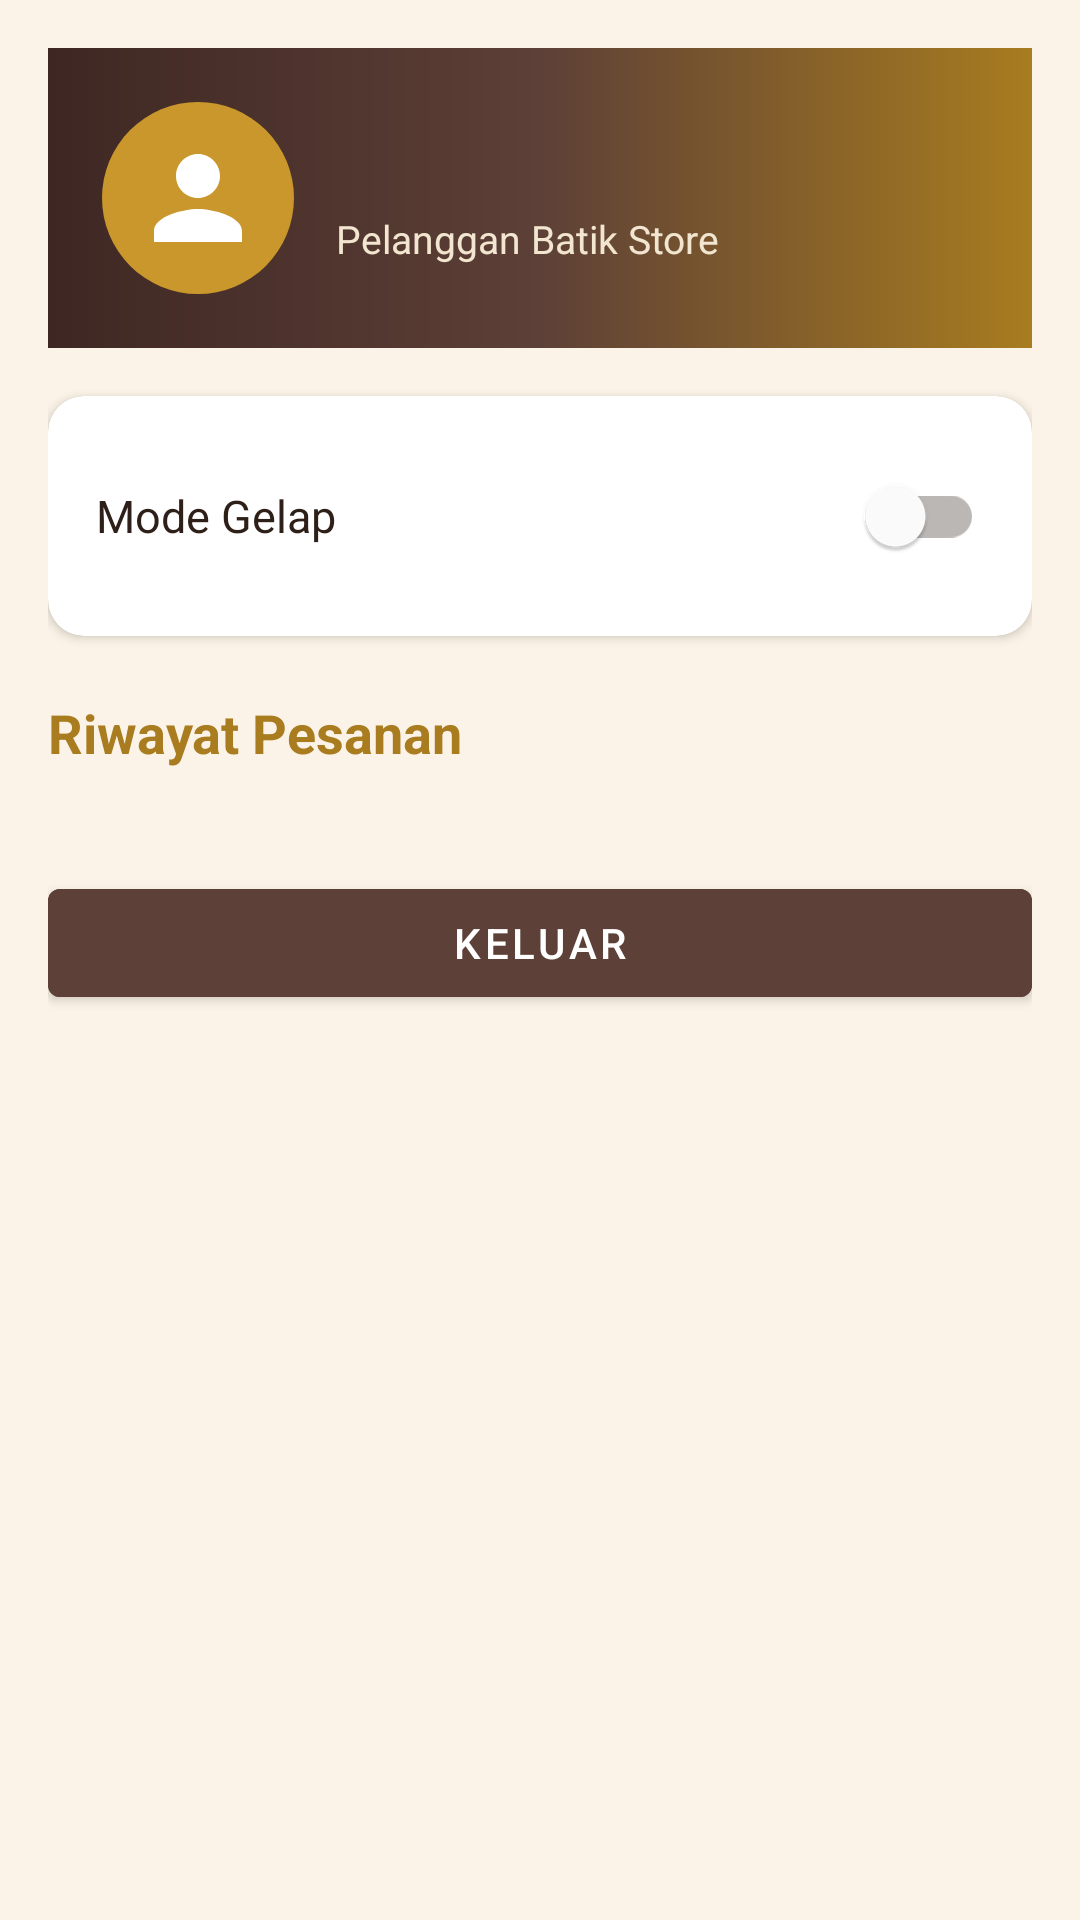

Icons on this 1080*1920 Android screen, each with its box as (x1, y1, x2, y2):
Profil: (102, 102, 294, 294)
